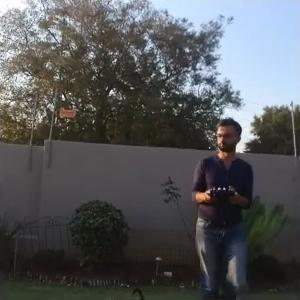follow: (188, 113, 257, 298)
